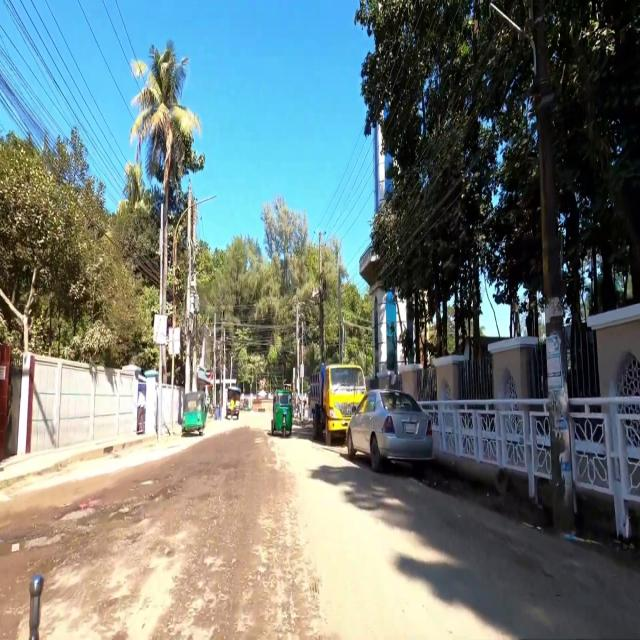silver: (345, 391, 436, 468)
